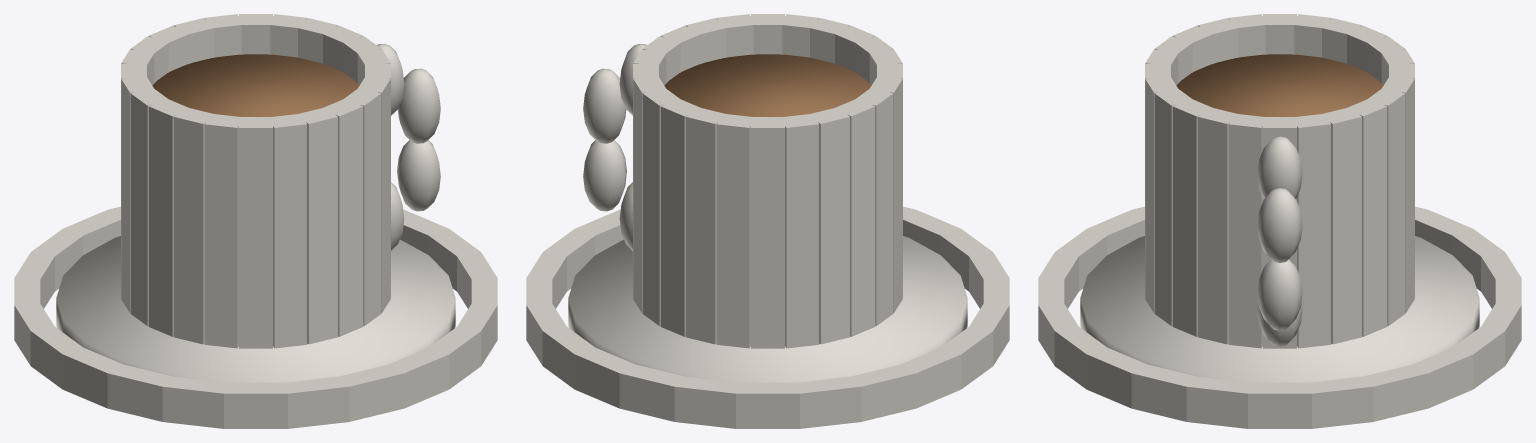
Rendered from Coffee_blockout.glb.
3 views of the same model, side by side, from view 1: azimuth 30°, elevation 25°; view 2: azimuth 150°, elevation 25°; view 3: azimuth 270°, elevation 25° (orthographic).
Parts seen in each view (by area): view 1: FOOD11_Coffee_SaucerBase_L0, FOOD11_Coffee_Coffee_L0, FOOD11_Coffee_CupRim15_L0, FOOD11_Coffee_CupRim17_L0, FOOD11_Coffee_CupRim16_L0, FOOD11_Coffee_CupRim14_L0, FOOD11_Coffee_CupRim18_L0, FOOD11_Coffee_CupRim19_L0, FOOD11_Coffee_CupRim13_L0, FOOD11_Coffee_CupRim20_L0, FOOD11_Coffee_CupRim12_L0, FOOD11_Coffee_SaucerRim16_L0 (+37 smaller); view 2: FOOD11_Coffee_SaucerBase_L0, FOOD11_Coffee_Coffee_L0, FOOD11_Coffee_CupRim7_L0, FOOD11_Coffee_CupRim9_L0, FOOD11_Coffee_CupRim8_L0, FOOD11_Coffee_CupRim10_L0, FOOD11_Coffee_CupRim6_L0, FOOD11_Coffee_CupRim11_L0, FOOD11_Coffee_CupRim5_L0, FOOD11_Coffee_CupRim4_L0, FOOD11_Coffee_CupRim12_L0, FOOD11_Coffee_SaucerRim8_L0 (+37 smaller); view 3: FOOD11_Coffee_SaucerBase_L0, FOOD11_Coffee_Coffee_L0, FOOD11_Coffee_CupRim1_L0, FOOD11_Coffee_CupRim23_L0, FOOD11_Coffee_CupRim22_L0, FOOD11_Coffee_CupRim2_L0, FOOD11_Coffee_CupRim3_L0, FOOD11_Coffee_CupRim21_L0, FOOD11_Coffee_CupRim4_L0, FOOD11_Coffee_CupRim20_L0, FOOD11_Coffee_SaucerRim0_L0, FOOD11_Coffee_SaucerRim1_L0 (+37 smaller).
Part boxes in pixels (x1,y1,x2,y2): FOOD11_Coffee_SaucerBase_L0: (56,236,455,382); FOOD11_Coffee_Coffee_L0: (152,54,359,116); FOOD11_Coffee_CupRim15_L0: (204,114,243,348); FOOD11_Coffee_CupRim17_L0: (268,113,307,348); FOOD11_Coffee_CupRim16_L0: (239,117,272,348); FOOD11_Coffee_CupRim14_L0: (173,107,215,344); FOOD11_Coffee_CupRim18_L0: (297,107,338,344); FOOD11_Coffee_CupRim19_L0: (321,99,363,336); FOOD11_Coffee_CupRim13_L0: (148,99,190,336); FOOD11_Coffee_CupRim20_L0: (342,88,381,326); FOOD11_Coffee_CupRim12_L0: (130,89,169,326); FOOD11_Coffee_SaucerRim16_L0: (224,382,287,428); FOOD11_Coffee_SaucerBase_L0: (568,236,967,382); FOOD11_Coffee_Coffee_L0: (664,54,871,116); FOOD11_Coffee_CupRim7_L0: (716,114,755,348); FOOD11_Coffee_CupRim9_L0: (780,114,819,348); FOOD11_Coffee_CupRim8_L0: (751,117,784,348); FOOD11_Coffee_CupRim10_L0: (808,107,850,344); FOOD11_Coffee_CupRim6_L0: (685,107,727,344); FOOD11_Coffee_CupRim11_L0: (834,98,875,336); FOOD11_Coffee_CupRim5_L0: (660,99,701,336); FOOD11_Coffee_CupRim4_L0: (642,89,681,326); FOOD11_Coffee_CupRim12_L0: (856,88,893,326); FOOD11_Coffee_SaucerRim8_L0: (736,382,799,428); FOOD11_Coffee_SaucerBase_L0: (1080,236,1479,382); FOOD11_Coffee_Coffee_L0: (1176,54,1383,116); FOOD11_Coffee_CupRim1_L0: (1292,113,1331,348); FOOD11_Coffee_CupRim23_L0: (1228,114,1267,348); FOOD11_Coffee_CupRim22_L0: (1197,108,1239,344); FOOD11_Coffee_CupRim2_L0: (1324,107,1362,344); FOOD11_Coffee_CupRim3_L0: (1345,99,1387,336); FOOD11_Coffee_CupRim21_L0: (1172,99,1214,336); FOOD11_Coffee_CupRim4_L0: (1366,88,1405,326); FOOD11_Coffee_CupRim20_L0: (1154,89,1193,326); FOOD11_Coffee_SaucerRim0_L0: (1248,382,1311,428); FOOD11_Coffee_SaucerRim1_L0: (1306,376,1373,428).
Bounding box in the file's own units: 0.149 × 0.087 × 0.149.
